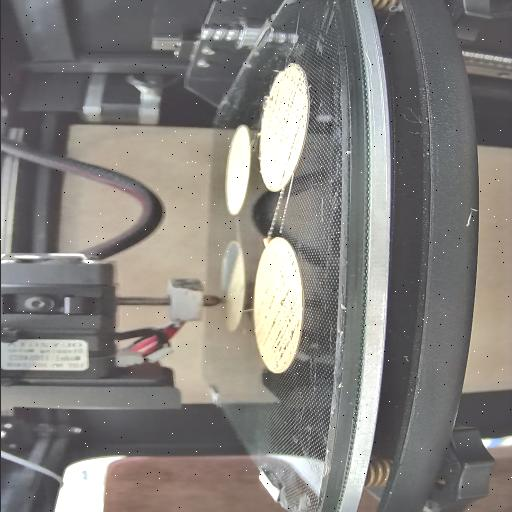under_extrusion: (265, 250, 301, 372), (267, 72, 307, 148), (271, 150, 296, 192)
